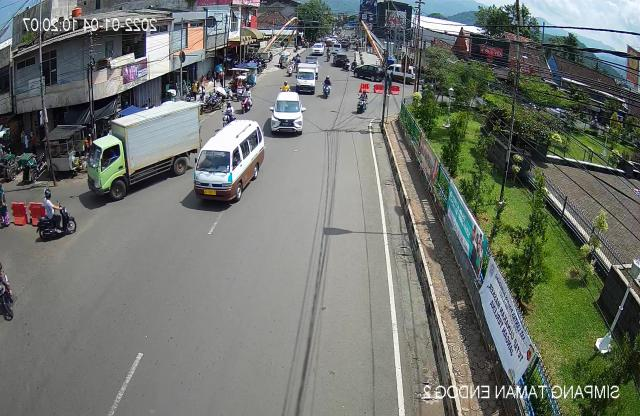Mobil: (190, 116, 266, 211), (270, 89, 305, 136)
Motor: (36, 188, 75, 241), (236, 84, 256, 117), (217, 100, 237, 127), (353, 87, 372, 115), (318, 73, 335, 101)
Truk: (82, 94, 203, 206)
